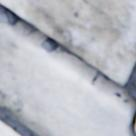brick: (0, 0, 135, 83), (0, 120, 20, 135)
broken_brick: (0, 22, 129, 135)
crack: (0, 2, 135, 135)
